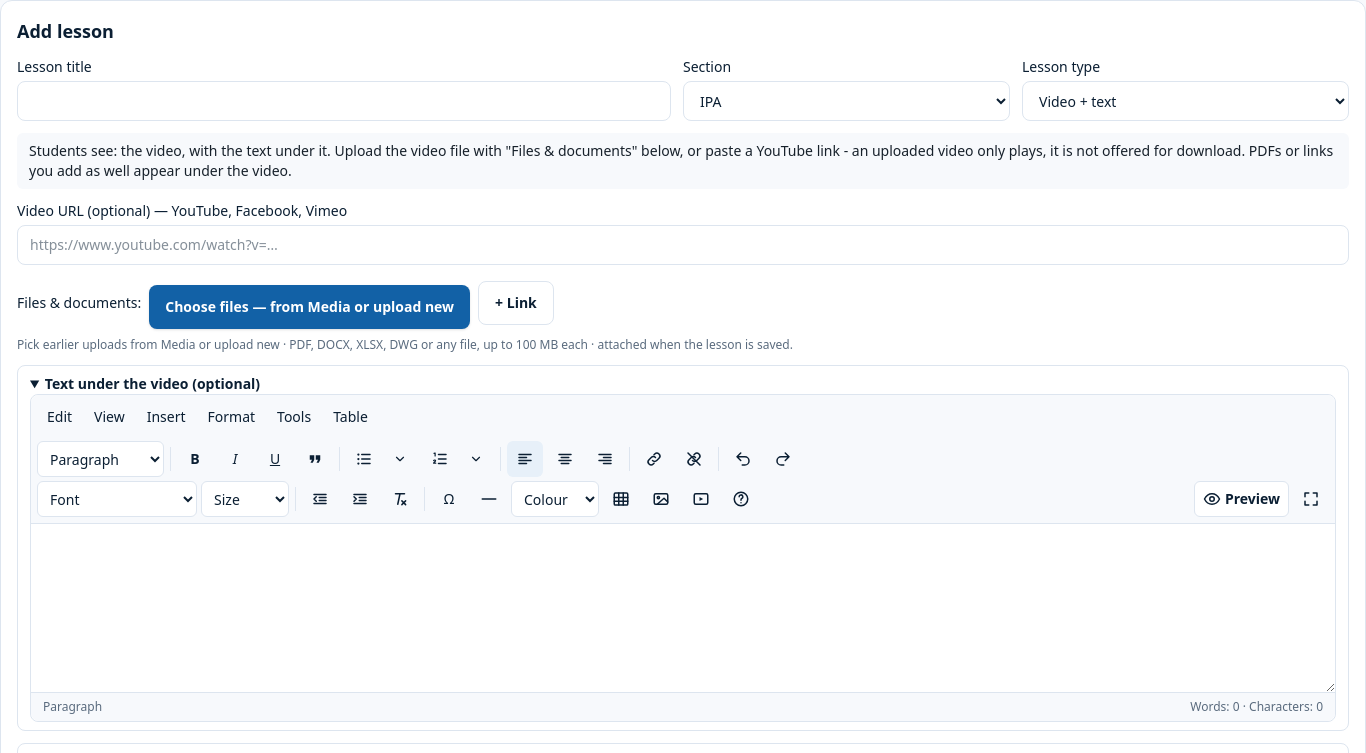
Test case: LessonForm › says what students will see for each type
Expected: the text "Students see: the video, with the text under it" is shown, [29, 141, 1333, 180]
Select "Files + text" in the dropdown labelled "Lesson type" at (1186, 101), box [1022, 81, 1349, 121]
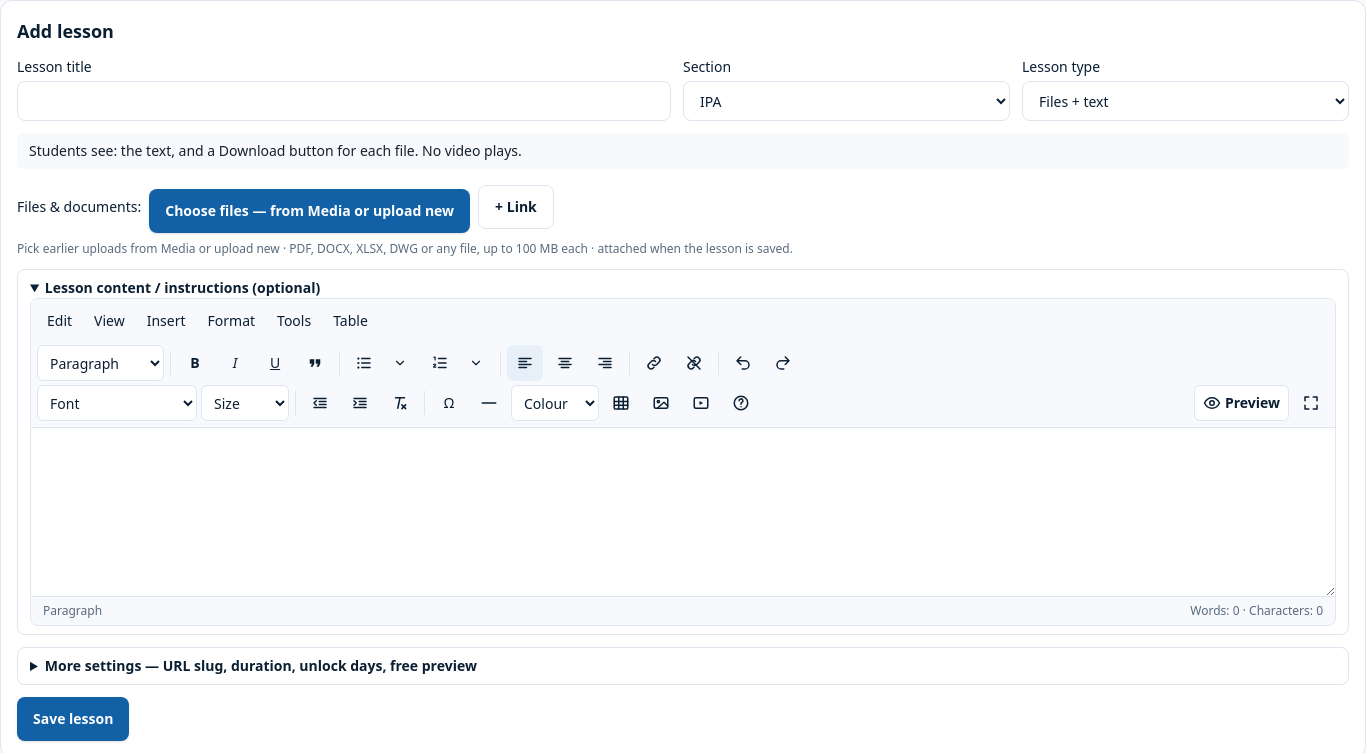
Now the text "Students see: the text, and a Download button for each file. No video plays." is shown, box [17, 133, 1349, 169]
Select "Downloads only" in the dropdown labelled "Lesson type" at (1186, 101), box [1022, 81, 1349, 121]
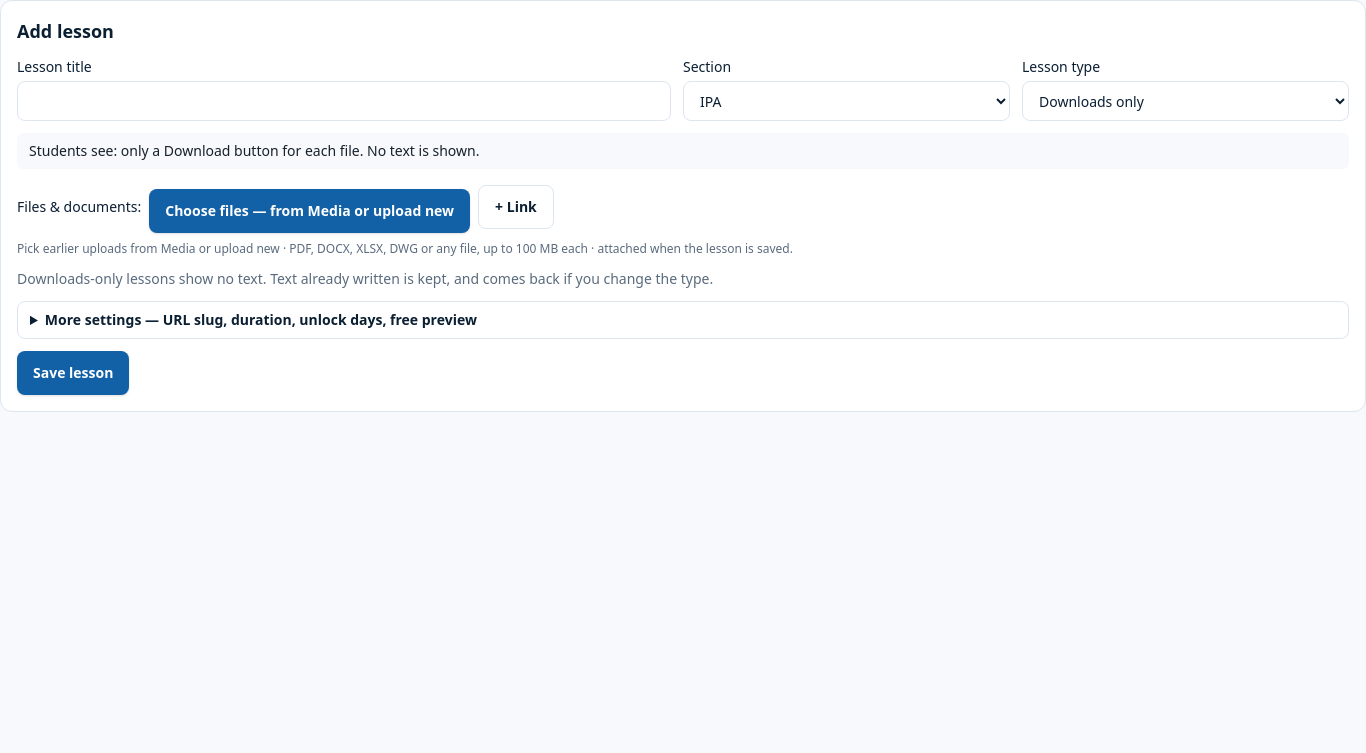
Now the text "Students see: only a Download button for each file. No text is shown." is shown, box [17, 133, 1349, 169]
